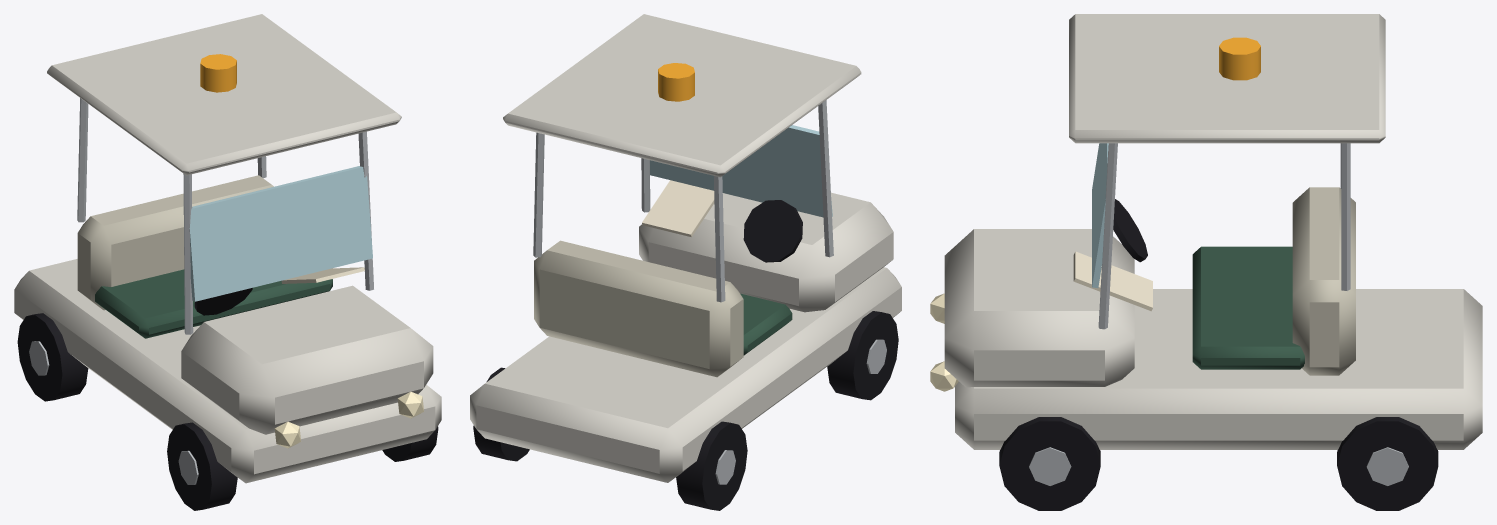
Rendered from golf_cart.glb.
The picture shows the model from 3 angles, left to right: view 1: azimuth 30°, elevation 25°; view 2: azimuth 150°, elevation 25°; view 3: azimuth 270°, elevation 25°; orthographic projection. The views are drawn at different scales.
Parts seen in each view (by area): view 1: golf_cart; view 2: golf_cart; view 3: golf_cart.
Part boxes in pixels (bbox=[...]): golf_cart: bbox=[14, 14, 441, 510]; golf_cart: bbox=[470, 14, 901, 510]; golf_cart: bbox=[930, 14, 1482, 510].
Bounding box in the file's own units: 1.42 × 2.1 × 2.62.
